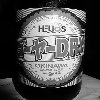beer: (11, 7, 86, 100)
